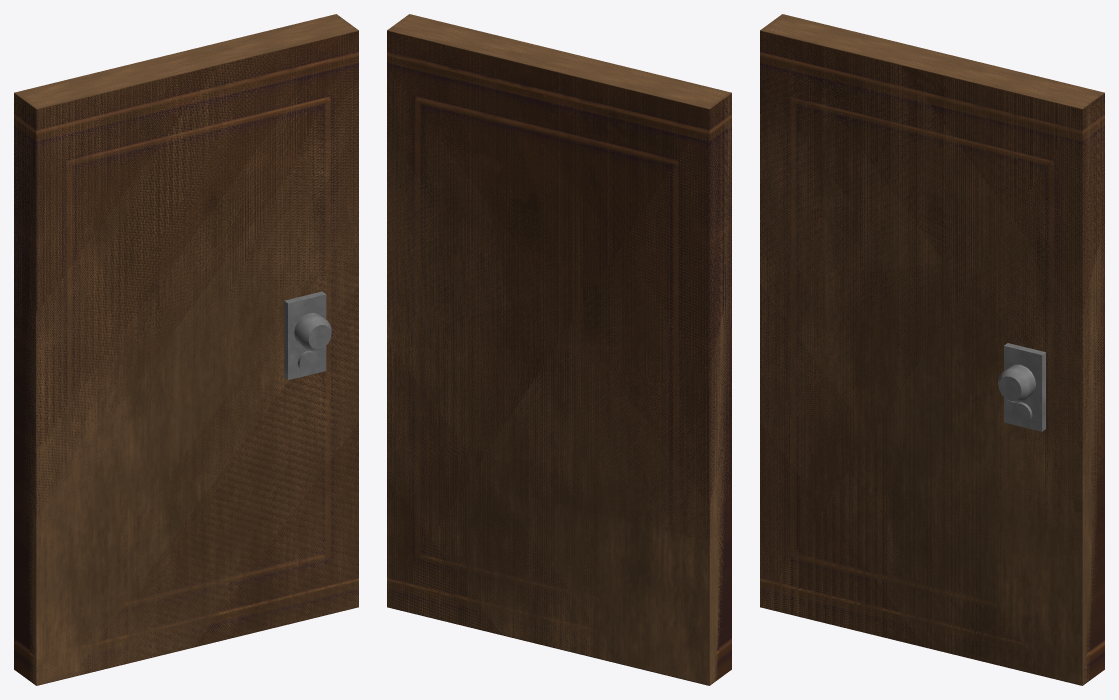
Rendered from portas.glb.
3 views of the same model, side by side, from view 1: azimuth 30°, elevation 25°; view 2: azimuth 150°, elevation 25°; view 3: azimuth 330°, elevation 25° (orthographic).
Visible parts, largest first — view 1: Cube.002, Cube; view 2: Cube.002, Cube; view 3: Cube.002, Cube.
Boxes of the visible parts, x1,y1,x2,y2 form: Cube.002: (14, 14, 358, 685); Cube: (14, 31, 358, 685); Cube.002: (387, 14, 731, 685); Cube: (387, 31, 731, 685); Cube.002: (760, 14, 1104, 685); Cube: (760, 31, 1104, 685).
Bounding box in the file's own units: 1 × 1.71 × 0.2101.
3 materials, 3 textured.
